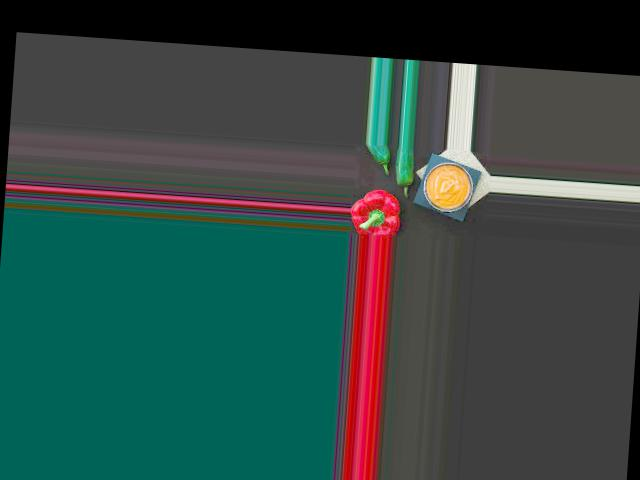bell_pepper: (351, 189, 401, 236)
